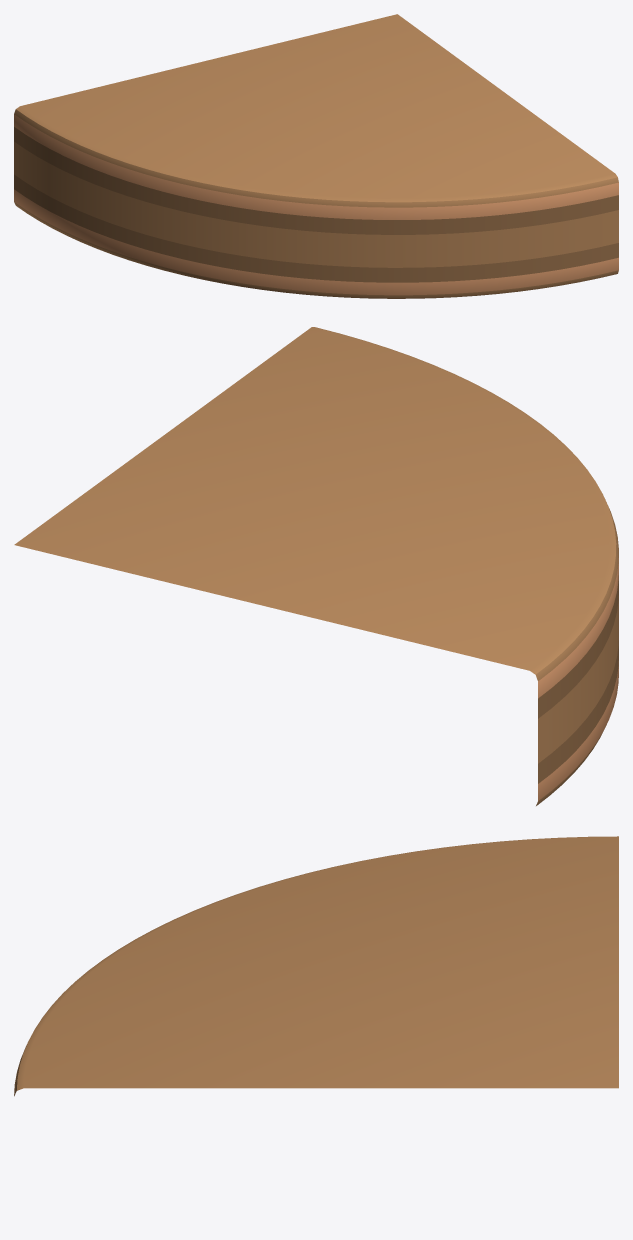
File: platform_dirt_corner_round4.gltf
3 views of the same model, one above another, from view 1: azimuth 30°, elevation 25°; view 2: azimuth 150°, elevation 25°; view 3: azimuth 270°, elevation 25° (orthographic). The views are drawn at different scales.
Visible parts, largest first — view 1: Cube_Dirt_Corner_Round4; view 2: Cube_Dirt_Corner_Round4; view 3: Cube_Dirt_Corner_Round4.
Part boxes in pixels (x1,y1,x2,y2): Cube_Dirt_Corner_Round4: [14, 14, 618, 298]; Cube_Dirt_Corner_Round4: [14, 327, 618, 805]; Cube_Dirt_Corner_Round4: [14, 836, 618, 1096].
Size of the model in its own units: 8 by 2 by 8.
